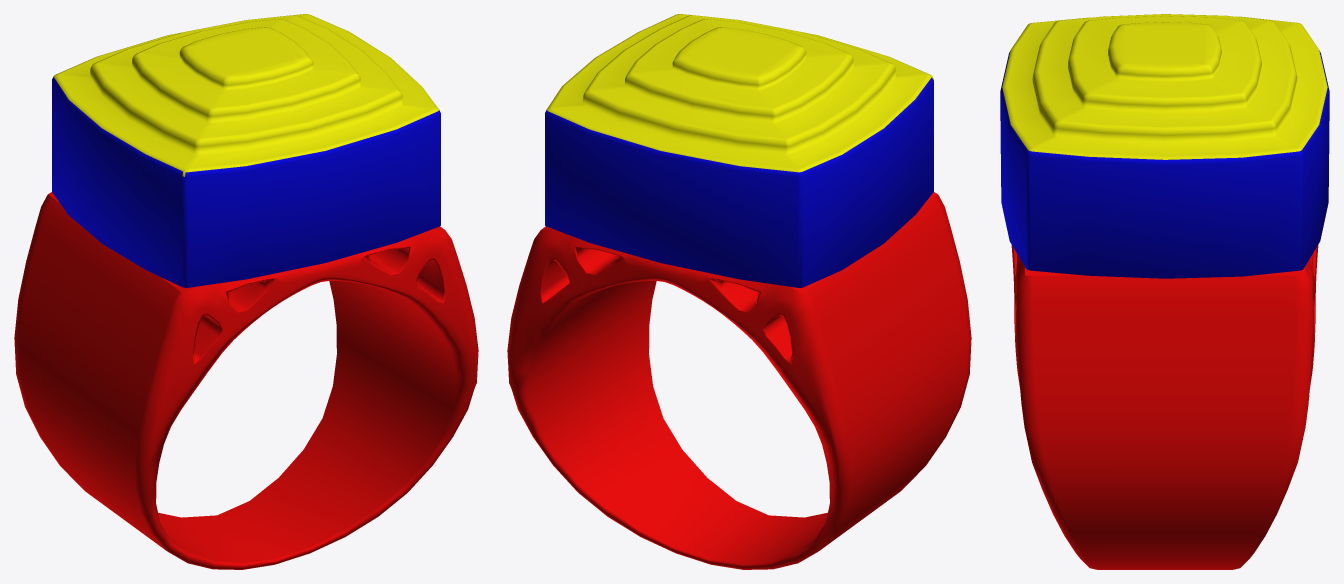
File: RING_1.fbx
3 renders of one model, left to right at view 1: azimuth 30°, elevation 25°; view 2: azimuth 150°, elevation 25°; view 3: azimuth 270°, elevation 25°, orthographic. The views are drawn at different scales.
Parts seen in each view (by area): view 1: polySurface1, polySurface2; view 2: polySurface1, polySurface2; view 3: polySurface2, polySurface1.
Boxes of the visible parts, x1=… form: polySurface1: x1=14, y1=192, x2=478, y2=569; polySurface2: x1=52, y1=14, x2=440, y2=287; polySurface1: x1=507, y1=192, x2=971, y2=569; polySurface2: x1=545, y1=14, x2=933, y2=287; polySurface2: x1=1000, y1=14, x2=1329, y2=278; polySurface1: x1=1011, y1=245, x2=1318, y2=569.
Bounding box in the file's own units: 1.04 × 1.45 × 0.8521.
